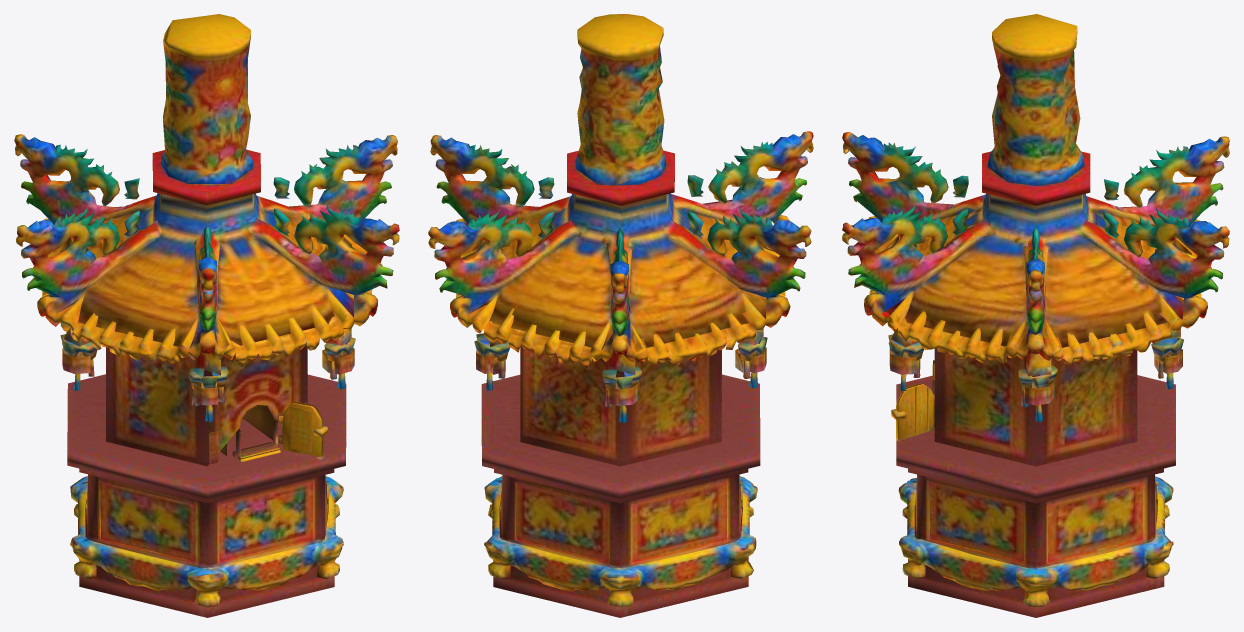
File: jinlu-lite.glb
3 renders of one model, left to right at view 1: azimuth 30°, elevation 25°; view 2: azimuth 150°, elevation 25°; view 3: azimuth 270°, elevation 25°, orthographic.
Visible parts, largest first — view 1: tripo_node_3b2bb242-869e-4f5e-b5fd-0a25fa43d30a; view 2: tripo_node_3b2bb242-869e-4f5e-b5fd-0a25fa43d30a; view 3: tripo_node_3b2bb242-869e-4f5e-b5fd-0a25fa43d30a.
Boxes of the visible parts, bbox=[...] form: tripo_node_3b2bb242-869e-4f5e-b5fd-0a25fa43d30a: bbox=[14, 14, 399, 617]; tripo_node_3b2bb242-869e-4f5e-b5fd-0a25fa43d30a: bbox=[428, 14, 813, 617]; tripo_node_3b2bb242-869e-4f5e-b5fd-0a25fa43d30a: bbox=[842, 14, 1229, 617].
Size of the model in its own units: 0.7495 by 0.9995 by 0.6636.
1 material, 1 textured.
